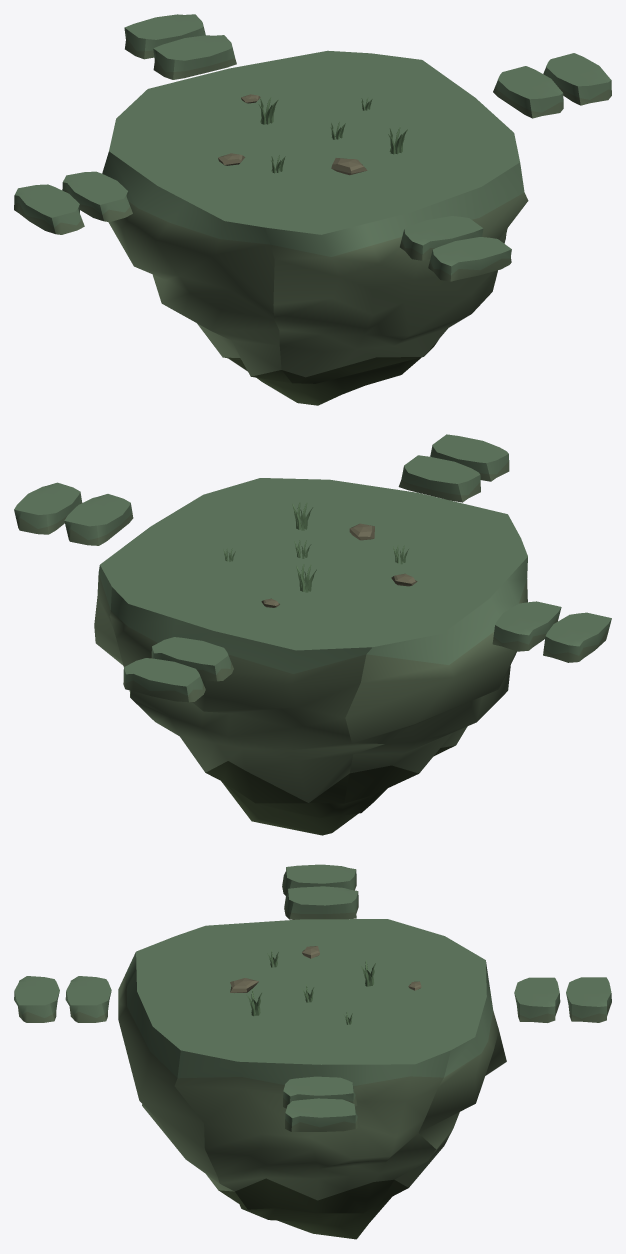
Rendered from Land.fbx.
The picture shows the model from 3 angles, top to bottom: view 1: azimuth 30°, elevation 25°; view 2: azimuth 150°, elevation 25°; view 3: azimuth 270°, elevation 25°; orthographic projection. The views are drawn at different scales.
Parts seen in each view (by area): view 1: pCylinder1, pasted__pCube1, pasted__pCube2, pasted__pasted__pasted__pasted__pCube3, pasted__pasted__pCube4, pasted__pasted__pasted__pCube1, pasted__pasted__pasted__pCube3, pasted__pasted__pCube3, pCube1; view 2: pCylinder1, pasted__pasted__pCube3, pCube1, pasted__pasted__pCube4, pasted__pasted__pasted__pasted__pCube3, pasted__pasted__pasted__pCube3, pasted__pasted__pasted__pCube1, pasted__pCube1, pasted__pCube2; view 3: pCylinder1, pasted__pasted__pasted__pCube1, pasted__pasted__pasted__pCube3, pasted__pCube1, pasted__pasted__pCube3, pasted__pCube2, pCube1, pasted__pasted__pasted__pasted__pCube3, pasted__pasted__pCube4.
Boxes of the visible parts, bbox=[...] form: pCylinder1: bbox=[102, 50, 528, 405]; pasted__pCube1: bbox=[153, 35, 236, 79]; pasted__pCube2: bbox=[428, 237, 511, 281]; pasted__pasted__pasted__pasted__pCube3: bbox=[14, 184, 84, 234]; pasted__pasted__pCube4: bbox=[493, 66, 563, 118]; pasted__pasted__pasted__pCube1: bbox=[62, 171, 132, 221]; pasted__pasted__pasted__pCube3: bbox=[543, 53, 611, 105]; pasted__pasted__pCube3: bbox=[124, 14, 205, 59]; pCube1: bbox=[400, 216, 483, 260]; pCylinder1: bbox=[94, 478, 527, 835]; pasted__pasted__pCube3: bbox=[123, 658, 205, 702]; pCube1: bbox=[398, 455, 480, 502]; pasted__pasted__pCube4: bbox=[64, 494, 133, 545]; pasted__pasted__pasted__pasted__pCube3: bbox=[543, 612, 611, 662]; pasted__pasted__pasted__pCube3: bbox=[14, 482, 82, 534]; pasted__pasted__pasted__pCube1: bbox=[492, 601, 561, 651]; pasted__pCube1: bbox=[151, 637, 233, 681]; pasted__pCube2: bbox=[430, 434, 509, 481]; pCylinder1: bbox=[118, 919, 506, 1239]; pasted__pasted__pasted__pCube1: bbox=[284, 886, 358, 919]; pasted__pasted__pasted__pCube3: bbox=[285, 1098, 359, 1131]; pasted__pCube1: bbox=[514, 977, 560, 1022]; pasted__pasted__pCube3: bbox=[566, 977, 611, 1022]; pasted__pCube2: bbox=[14, 976, 59, 1022]; pCube1: bbox=[65, 976, 111, 1022]; pasted__pasted__pasted__pasted__pCube3: bbox=[282, 864, 356, 896]; pasted__pasted__pCube4: bbox=[283, 1076, 357, 1108].
Size of the model in its own units: 8.93 by 4.28 by 8.89.
